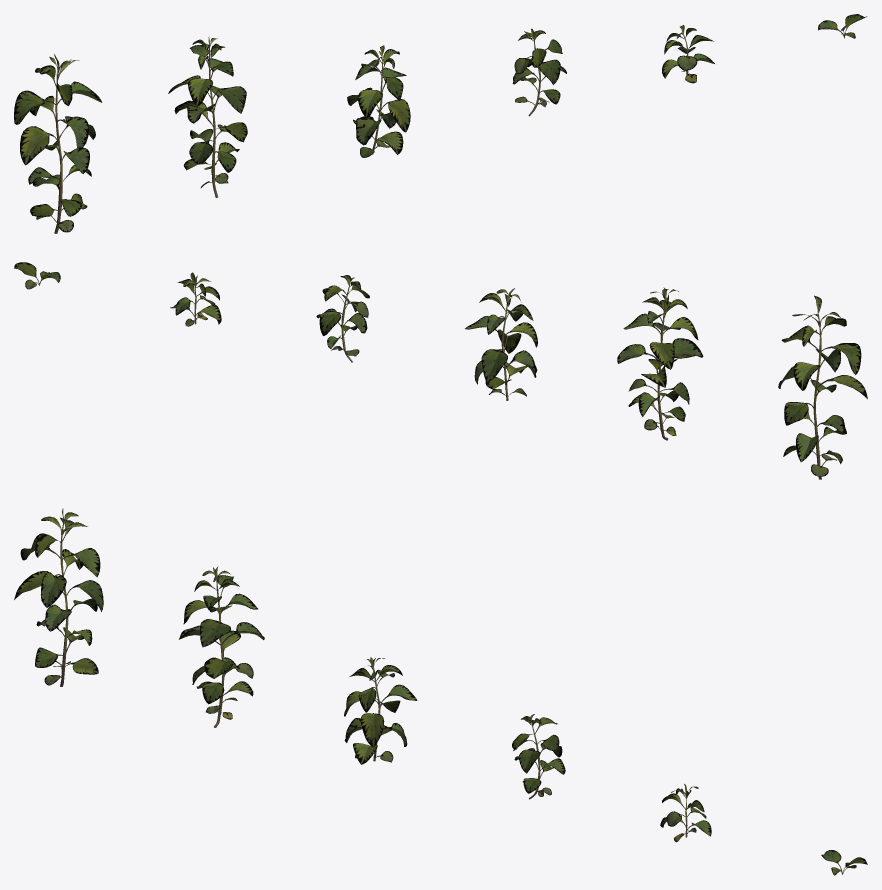
The model's file is ferns.glb.
The picture shows the model from 3 angles, top to bottom: view 1: azimuth 30°, elevation 25°; view 2: azimuth 150°, elevation 25°; view 3: azimuth 330°, elevation 25°; orthographic projection.
Visible parts, largest first — view 1: nettle_plant_tall_a_LOD0, nettle_plant_tall_b_LOD0, nettle_plant_medium_a_LOD0, nettle_plant_medium_b_LOD0, nettle_plant_small_a_LOD0; view 2: nettle_plant_tall_a_LOD0, nettle_plant_tall_b_LOD0, nettle_plant_medium_a_LOD0, nettle_plant_medium_b_LOD0, nettle_plant_small_a_LOD0, nettle_plant_small_b_LOD0; view 3: nettle_plant_tall_a_LOD0, nettle_plant_tall_b_LOD0, nettle_plant_medium_a_LOD0, nettle_plant_medium_b_LOD0, nettle_plant_small_a_LOD0.
Part boxes in pixels (x1,y1,x2,y2): nettle_plant_tall_a_LOD0: [14, 54, 102, 233]; nettle_plant_tall_b_LOD0: [168, 36, 247, 197]; nettle_plant_medium_a_LOD0: [347, 45, 410, 157]; nettle_plant_medium_b_LOD0: [512, 28, 566, 116]; nettle_plant_small_a_LOD0: [662, 25, 714, 83]; nettle_plant_tall_a_LOD0: [778, 295, 867, 479]; nettle_plant_tall_b_LOD0: [617, 287, 703, 440]; nettle_plant_medium_a_LOD0: [465, 288, 537, 400]; nettle_plant_medium_b_LOD0: [316, 275, 369, 362]; nettle_plant_small_a_LOD0: [170, 272, 221, 326]; nettle_plant_small_b_LOD0: [14, 262, 60, 289]; nettle_plant_tall_a_LOD0: [14, 508, 103, 686]; nettle_plant_tall_b_LOD0: [179, 566, 264, 727]; nettle_plant_medium_a_LOD0: [344, 657, 417, 764]; nettle_plant_medium_b_LOD0: [512, 714, 565, 799]; nettle_plant_small_a_LOD0: [660, 784, 711, 842].
Size of the model in its own units: 1.08 by 0.2184 by 0.0947.
Materials: 1 (1 with a texture image).
